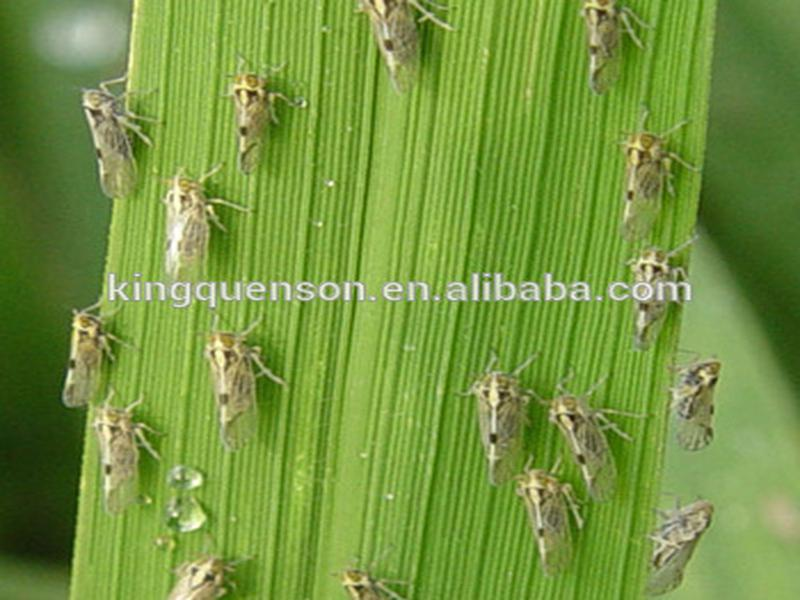White_backed_plant_hopper: (62, 74, 150, 204), (186, 332, 271, 466), (207, 64, 284, 184), (599, 128, 676, 243), (634, 490, 716, 594), (462, 364, 527, 493), (667, 348, 723, 454), (54, 309, 113, 407), (157, 182, 210, 275)
